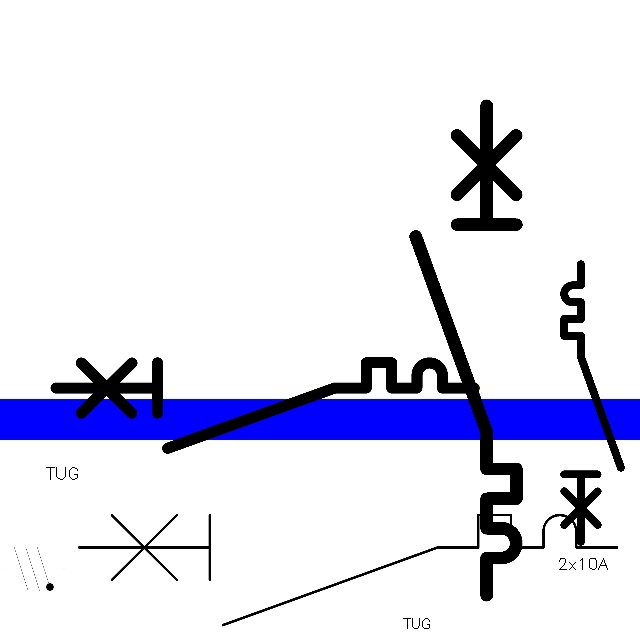interruptor_termomagnetico: (65, 501, 631, 639), (403, 93, 529, 608), (45, 352, 485, 459), (557, 257, 628, 549)
